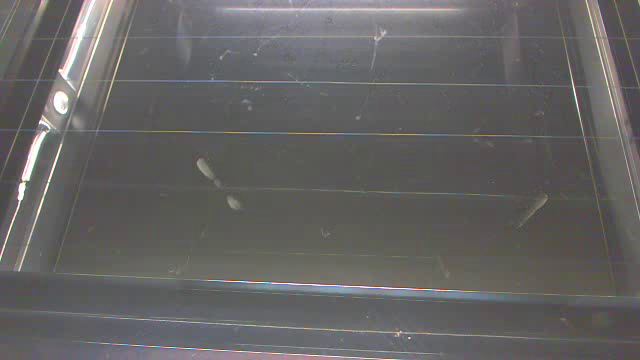alpha: (196, 160, 242, 210), (513, 193, 549, 231)
